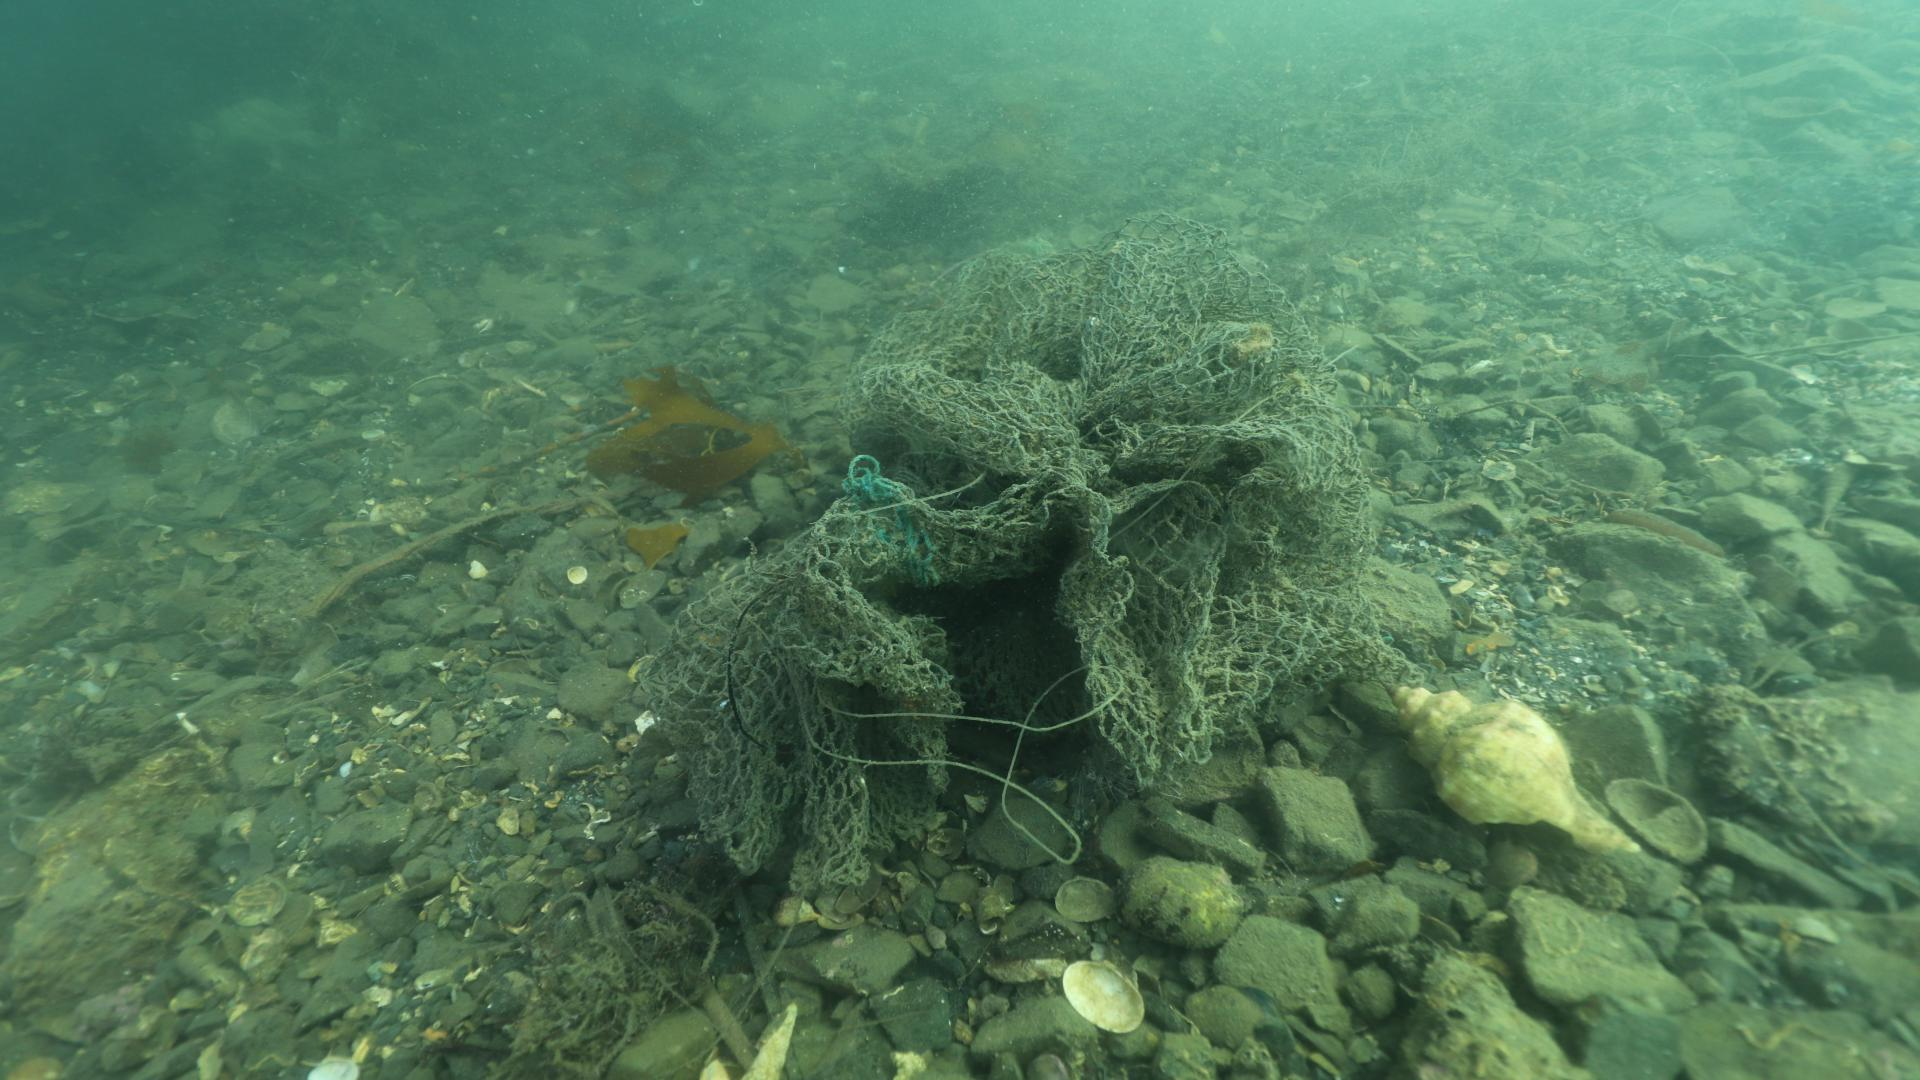fish net: (638, 211, 1374, 886)
